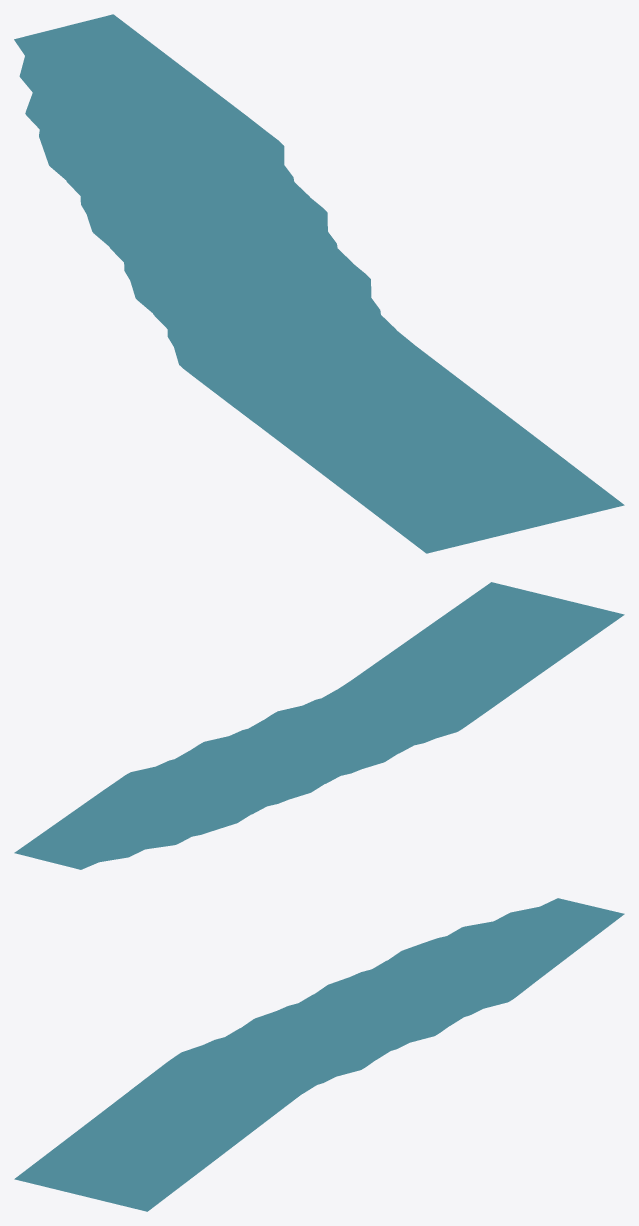
3 views of the same model, one above another, from view 1: azimuth 30°, elevation 25°; view 2: azimuth 150°, elevation 25°; view 3: azimuth 330°, elevation 25° (orthographic). The views are drawn at different scales.
Parts seen in each view (by area): view 1: prototype; view 2: prototype; view 3: prototype.
Part boxes in pixels (x1,y1,x2,y2): prototype: [14, 14, 624, 553]; prototype: [14, 582, 624, 869]; prototype: [14, 898, 624, 1211].
Size of the model in its own units: 18.03 by 1.16 by 64.
